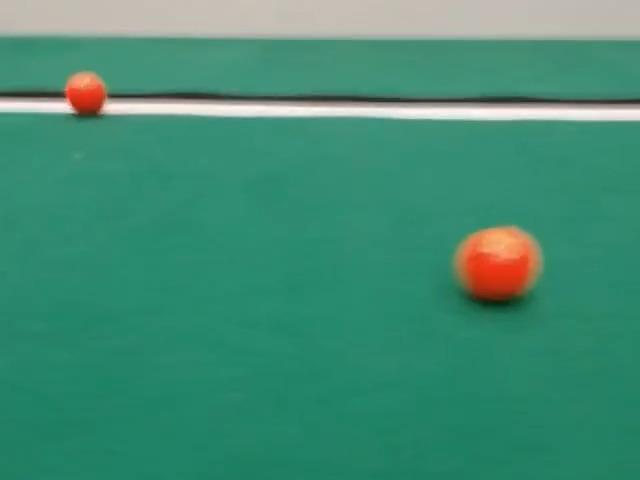Ball: (454, 226, 542, 302), (65, 71, 107, 115)
